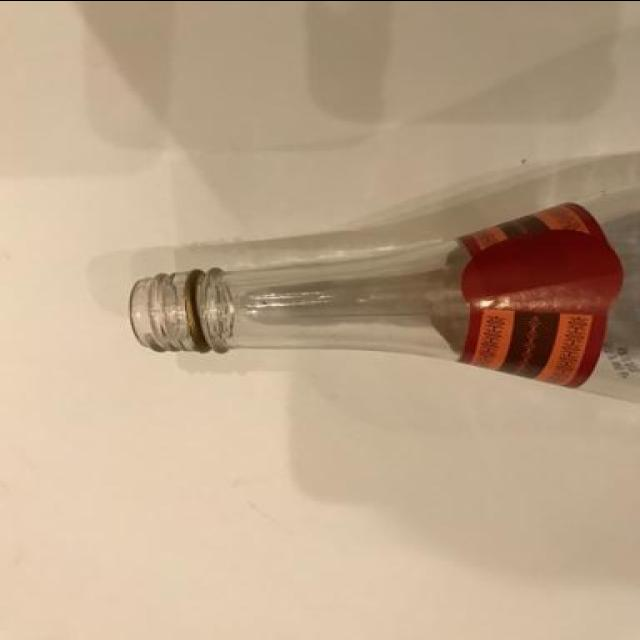Glass Bottle: (128, 182, 638, 406)
